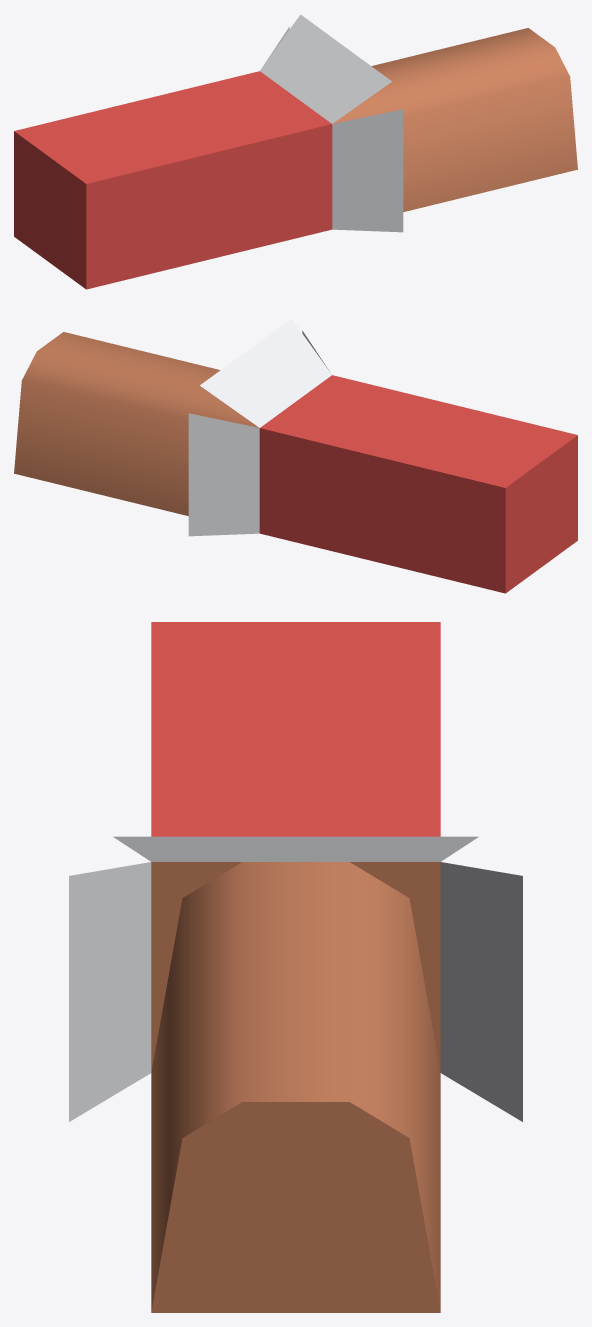
Rendered from Candy_Bar_Wrapper.glb.
3 renders of one model, top to bottom at view 1: azimuth 30°, elevation 25°; view 2: azimuth 150°, elevation 25°; view 3: azimuth 270°, elevation 25°, orthographic. The views are drawn at different scales.
Parts seen in each view (by area): view 1: candyBarWrapper; view 2: candyBarWrapper; view 3: candyBarWrapper.
Boxes of the visible parts, left/top/right/bottom form: candyBarWrapper: left=14, top=14, right=577, bottom=289; candyBarWrapper: left=14, top=318, right=577, bottom=593; candyBarWrapper: left=69, top=622, right=522, bottom=1312.
Bounding box in the file's own units: 0.2924 × 0.0812 × 0.1169.
